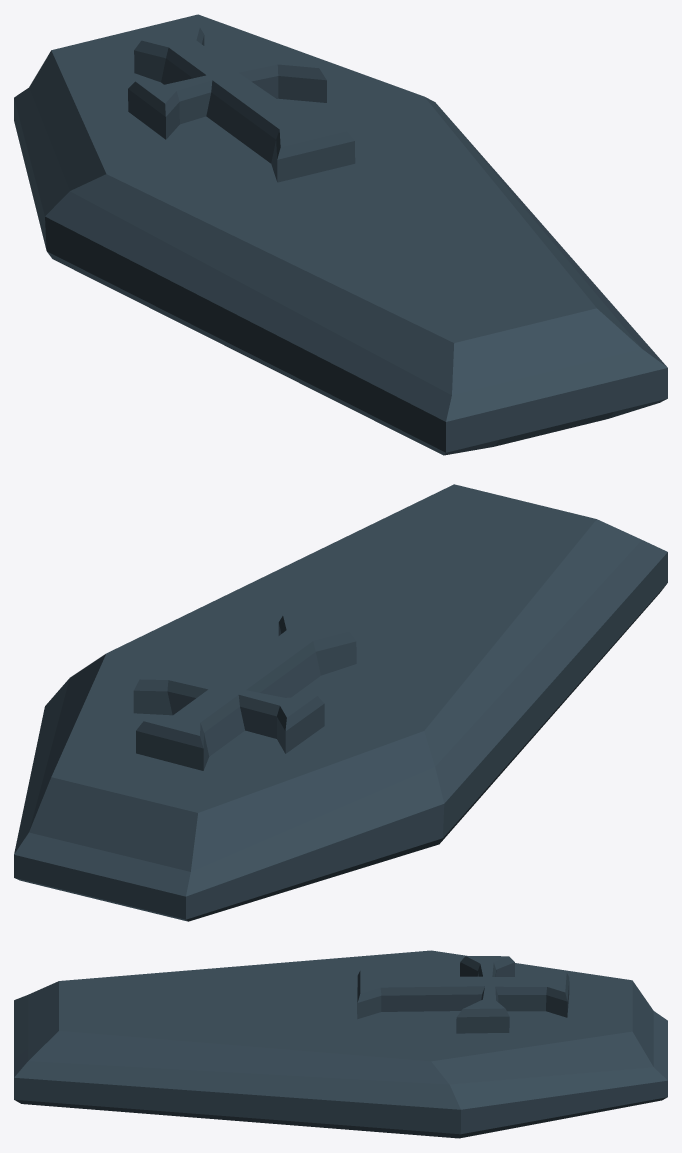
File: Coffin_Lid.fbx
3 renders of one model, top to bottom at view 1: azimuth 30°, elevation 25°; view 2: azimuth 150°, elevation 25°; view 3: azimuth 270°, elevation 25°, orthographic. The views are drawn at different scales.
Visible parts, largest first — view 1: Coffin Lid; view 2: Coffin Lid; view 3: Coffin Lid.
Boxes of the visible parts, x1,y1,x2,y2 form: Coffin Lid: [14, 14, 667, 455]; Coffin Lid: [14, 484, 667, 921]; Coffin Lid: [14, 950, 667, 1138].
Size of the model in its own units: 108 by 31.81 by 213.
